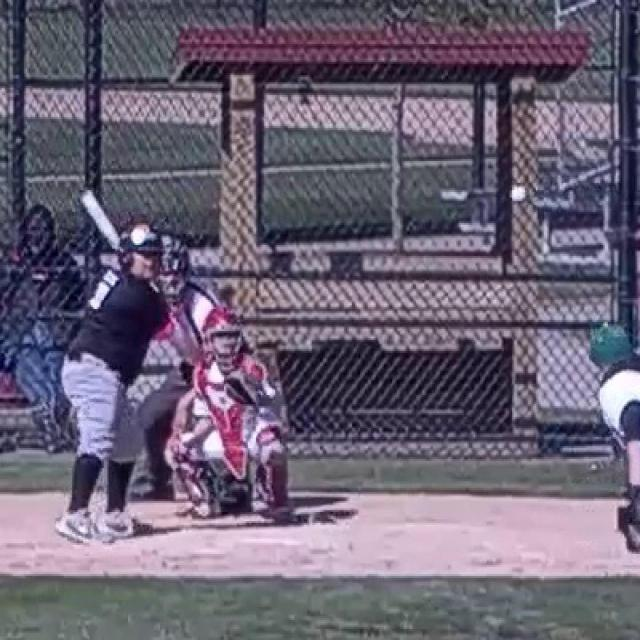baseball: (511, 186, 525, 200)
